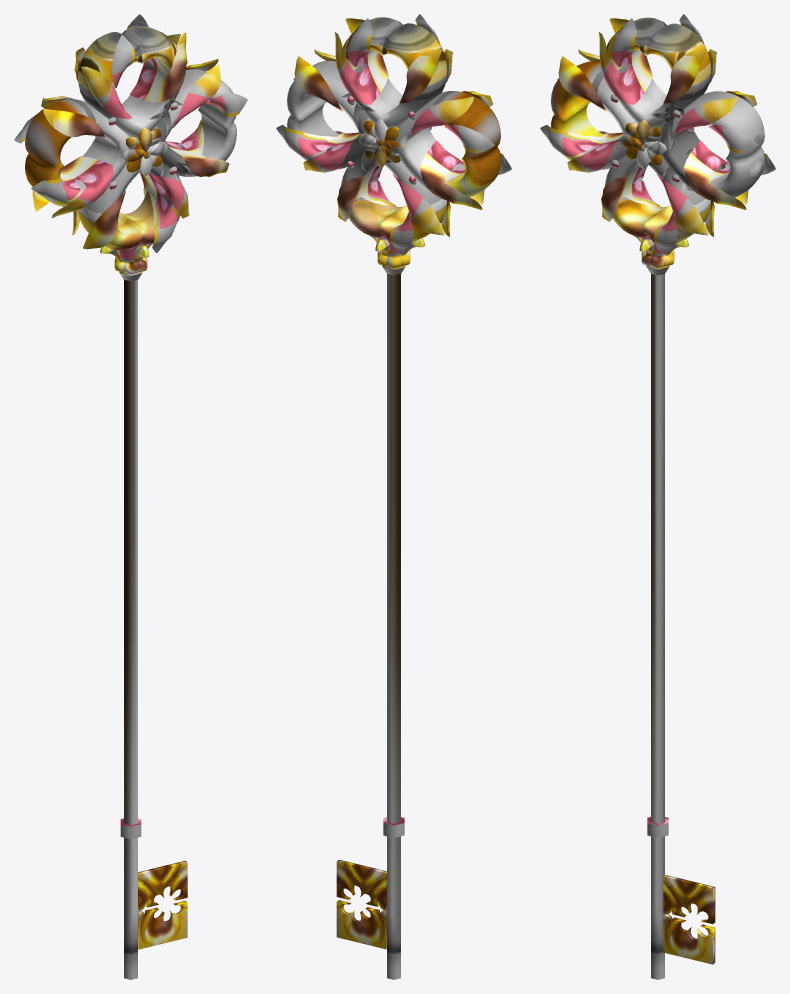
Rendered from gacha_key_official.glb.
3 renders of one model, left to right at view 1: azimuth 30°, elevation 25°; view 2: azimuth 150°, elevation 25°; view 3: azimuth 330°, elevation 25°, orthographic.
Parts seen in each view (by area): view 1: key_bodyStick, key_Heart_petalA, key_Heart_petalB, key_Metal_metal_fittingsB, key_Heart_petalC, key_leaf_frontA_D, key_leaf_frontA, key_Heart_petalD, key_leaf_frontA_C, key_leaf_frontA_B, key_leaf_frontB, key_leaf_frontB_D (+1 smaller); view 2: key_bodyStick, key_Heart_petalB, key_Heart_petalA, key_Metal_metal_fittingsB, key_Heart_petalC, key_leaf_frontB, key_Heart_petalD, key_leaf_frontB_D, key_leaf_frontB_B, key_leaf_frontB_C, key_leaf_frontA, key_leaf_frontA_D (+1 smaller); view 3: key_bodyStick, key_Heart_petalC, key_Heart_petalA, key_Metal_metal_fittingsB, key_leaf_frontA, key_Heart_petalB, key_Heart_petalD, key_leaf_frontA_B, key_leaf_frontA_D, key_leaf_frontA_C, key_leaf_frontB, key_leaf_frontB_B (+1 smaller).
Part boxes in pixels (x1=…): key_bodyStick: x1=124, y1=280, x2=137, y2=979; key_Heart_petalA: x1=78, y1=26, x2=179, y2=139; key_Heart_petalB: x1=25, y1=99, x2=129, y2=206; key_Metal_metal_fittingsB: x1=138, y1=860, x2=187, y2=949; key_Heart_petalC: x1=151, y1=69, x2=236, y2=176; key_leaf_frontA_D: x1=31, y1=109, x2=113, y2=218; key_leaf_frontA: x1=81, y1=33, x2=187, y2=119; key_Heart_petalD: x1=78, y1=162, x2=181, y2=249; key_leaf_frontA_C: x1=83, y1=173, x2=189, y2=252; key_leaf_frontA_B: x1=169, y1=64, x2=247, y2=176; key_leaf_frontB: x1=74, y1=14, x2=180, y2=100; key_leaf_frontB_D: x1=14, y1=96, x2=97, y2=210; key_bodyStick: x1=387, y1=273, x2=400, y2=979; key_Heart_petalB: x1=395, y1=91, x2=500, y2=197; key_Heart_petalA: x1=342, y1=17, x2=447, y2=128; key_Metal_metal_fittingsB: x1=336, y1=859, x2=386, y2=949; key_Heart_petalC: x1=287, y1=60, x2=370, y2=169; key_leaf_frontB: x1=334, y1=18, x2=441, y2=104; key_Heart_petalD: x1=341, y1=153, x2=447, y2=241; key_leaf_frontB_D: x1=411, y1=96, x2=494, y2=209; key_leaf_frontB_B: x1=276, y1=56, x2=355, y2=172; key_leaf_frontB_C: x1=337, y1=165, x2=444, y2=255; key_leaf_frontA: x1=346, y1=14, x2=453, y2=92; key_leaf_frontA_D: x1=427, y1=91, x2=511, y2=203; key_bodyStick: x1=651, y1=273, x2=664, y2=979; key_Heart_petalC: x1=656, y1=91, x2=764, y2=197; key_Heart_petalA: x1=606, y1=17, x2=710, y2=128; key_Metal_metal_fittingsB: x1=663, y1=875, x2=715, y2=964; key_leaf_frontA: x1=598, y1=18, x2=705, y2=104; key_Heart_petalB: x1=551, y1=61, x2=637, y2=169; key_Heart_petalD: x1=605, y1=155, x2=710, y2=242; key_leaf_frontA_B: x1=675, y1=96, x2=758, y2=209; key_leaf_frontA_D: x1=540, y1=56, x2=619, y2=172; key_leaf_frontA_C: x1=601, y1=166, x2=708, y2=255; key_leaf_frontB: x1=610, y1=14, x2=717, y2=92; key_leaf_frontB_B: x1=691, y1=91, x2=775, y2=203.
Size of the model in its own units: 0.8334 by 3.5 by 0.2232.
Materials: 1 (1 with a texture image).
